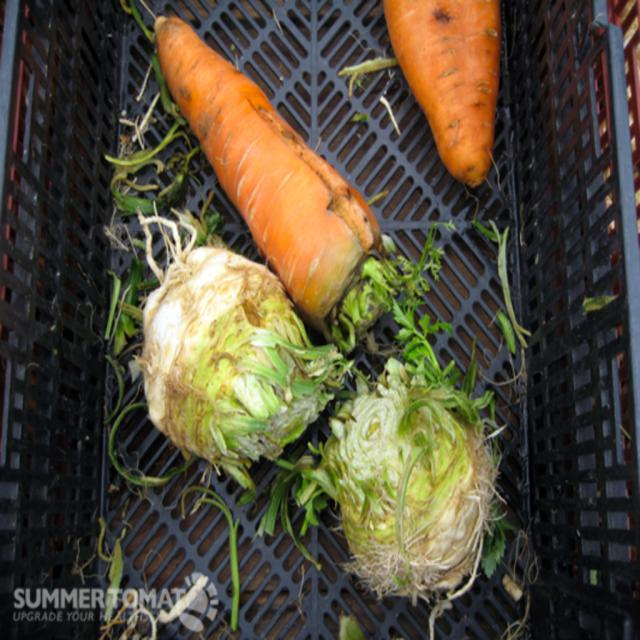carrot: (119, 0, 396, 339), (382, 0, 499, 186)
